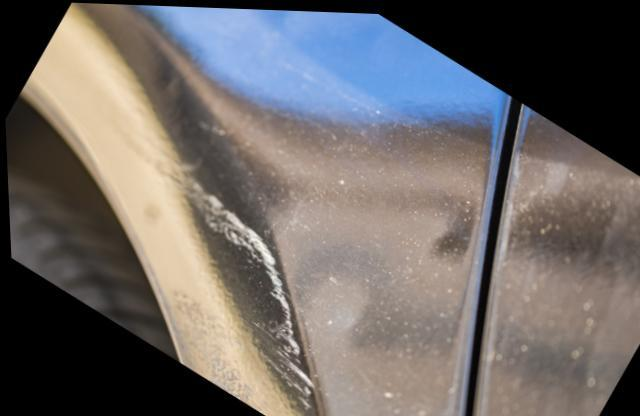scratch: (139, 145, 320, 416)
